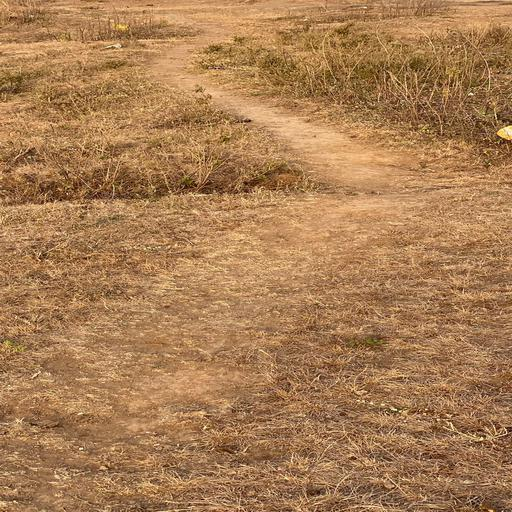vehicle_track: (0, 39, 430, 415)
